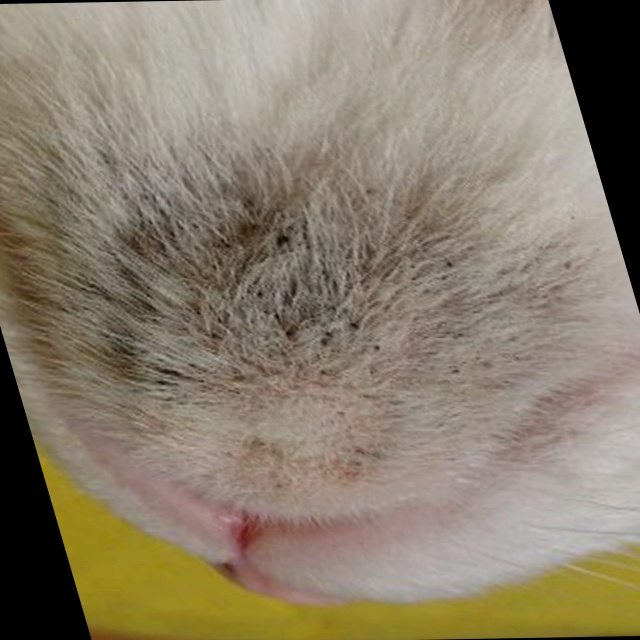acne: (85, 192, 504, 426)
